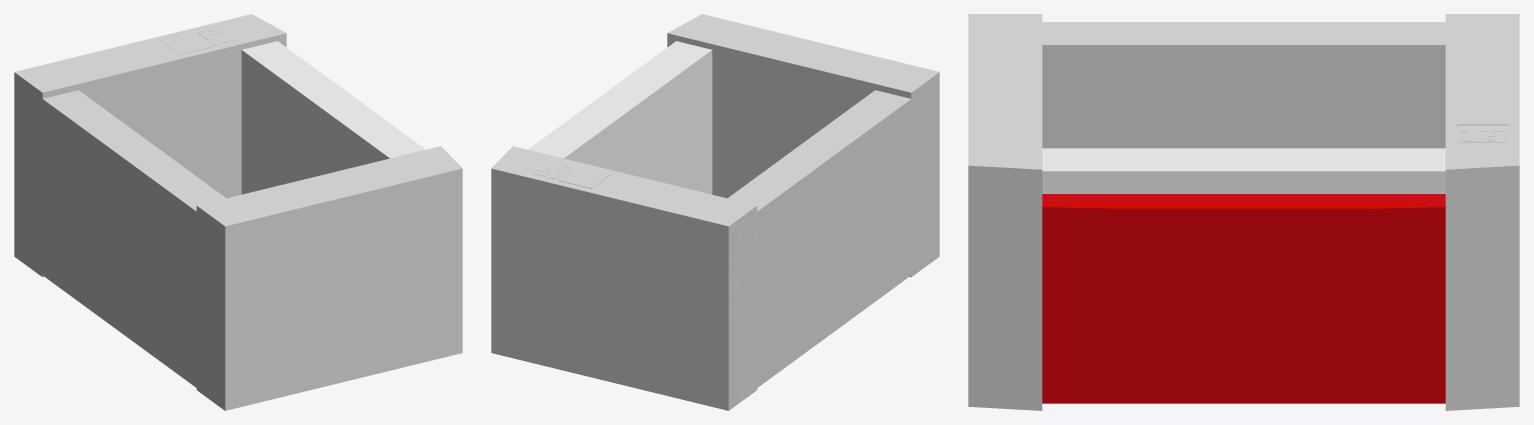
File: trotec.fbx
3 views of the same model, side by side, from view 1: azimuth 30°, elevation 25°; view 2: azimuth 150°, elevation 25°; view 3: azimuth 270°, elevation 25° (orthographic). The views are drawn at different scales.
Parts seen in each view (by area): view 1: Left, Back, Right, Front, RightHole; view 2: Right, Back, Left, Front, RightHole; view 3: Front, Back, Left, Right, Cube, RightHole, ButtonPanel.
Part boxes in pixels (x1=…): Left: x1=196, y1=146, x2=462, y2=410; Back: x1=42, y1=90, x2=226, y2=387; Right: x1=14, y1=14, x2=286, y2=277; Front: x1=241, y1=41, x2=425, y2=194; RightHole: x1=160, y1=32, x2=212, y2=54; Right: x1=491, y1=146, x2=757, y2=410; Back: x1=727, y1=90, x2=911, y2=387; Left: x1=667, y1=14, x2=939, y2=277; Front: x1=528, y1=41, x2=712, y2=194; RightHole: x1=559, y1=166, x2=610, y2=188; Front: x1=1042, y1=148, x2=1445, y2=403; Back: x1=1042, y1=22, x2=1445, y2=148; Left: x1=968, y1=14, x2=1042, y2=410; Right: x1=1445, y1=14, x2=1519, y2=410; Cube: x1=1042, y1=201, x2=1445, y2=209; RightHole: x1=1456, y1=104, x2=1508, y2=125; ButtonPanel: x1=1456, y1=126, x2=1508, y2=142.
Bounding box in the file's own units: 75.23 × 53.9 × 112.
